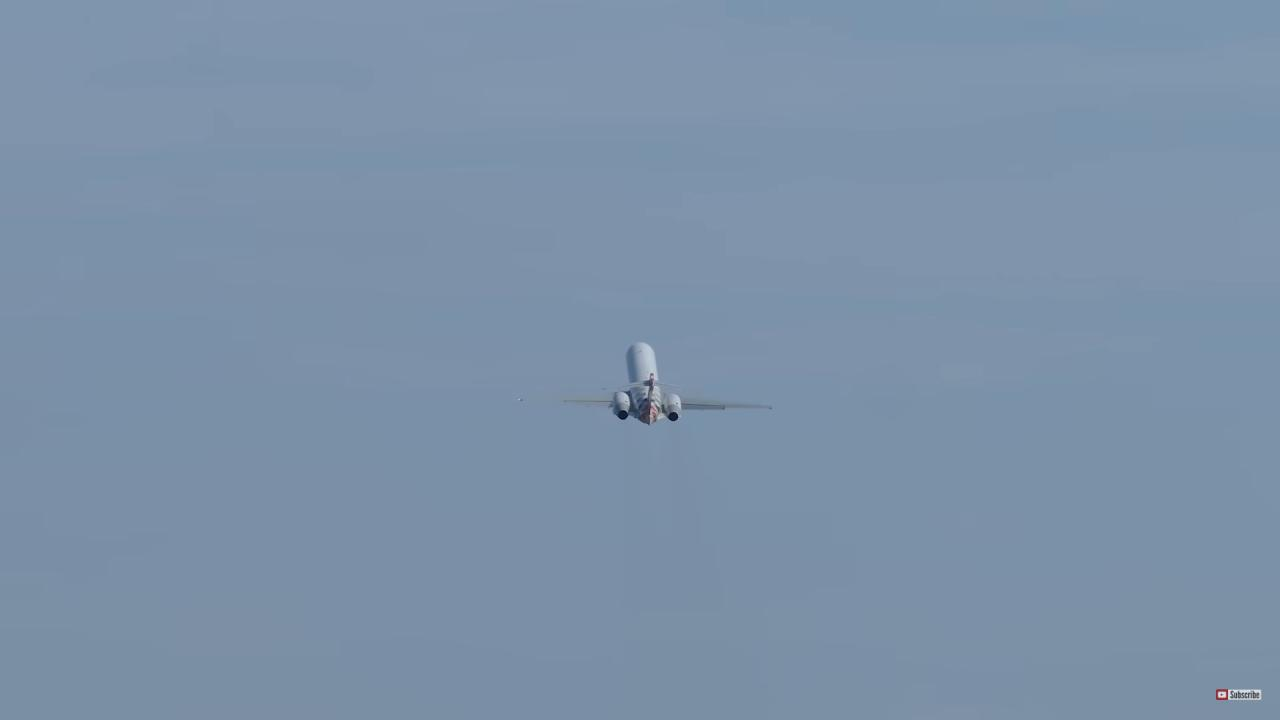Airplane: (508, 328, 785, 444)
